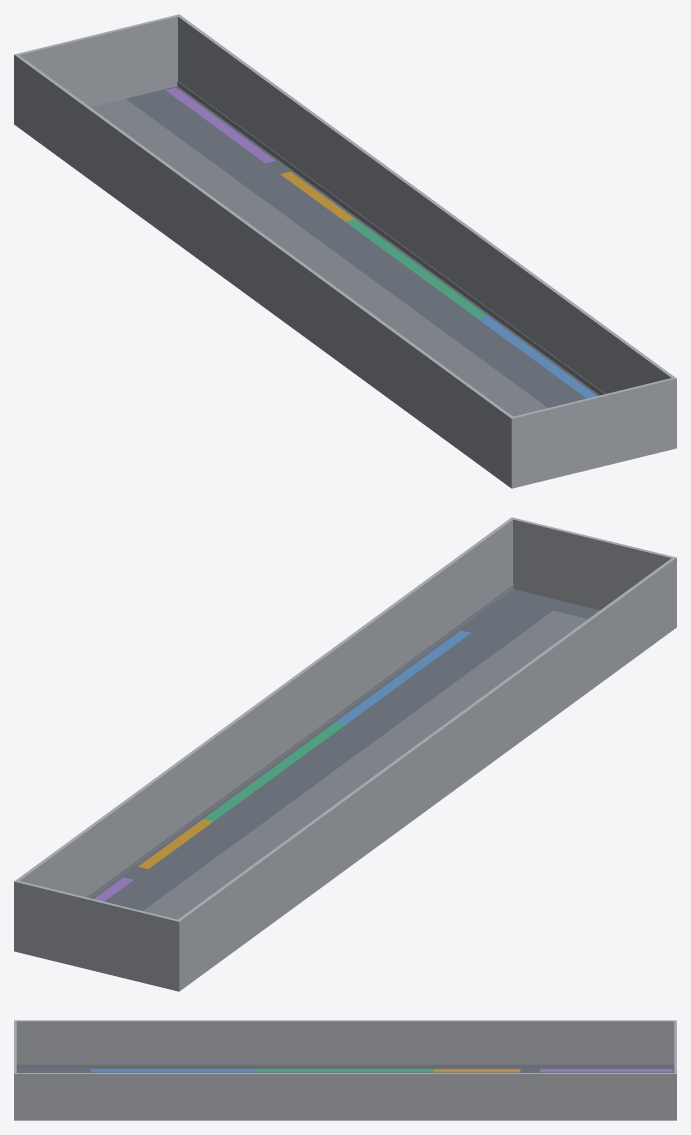
File: hall.glb
3 renders of one model, top to bottom at view 1: azimuth 30°, elevation 25°; view 2: azimuth 150°, elevation 25°; view 3: azimuth 270°, elevation 25°, orthographic. The views are drawn at different scales.
Parts seen in each view (by area): view 1: hall; view 2: hall; view 3: hall.
Boxes of the visible parts, x1,y1,x2,y2 form: hall: (14,14,676,488); hall: (14,517,676,991); hall: (14,1020,676,1120).
Size of the model in its own units: 7.92 by 3.22 by 41.32.
